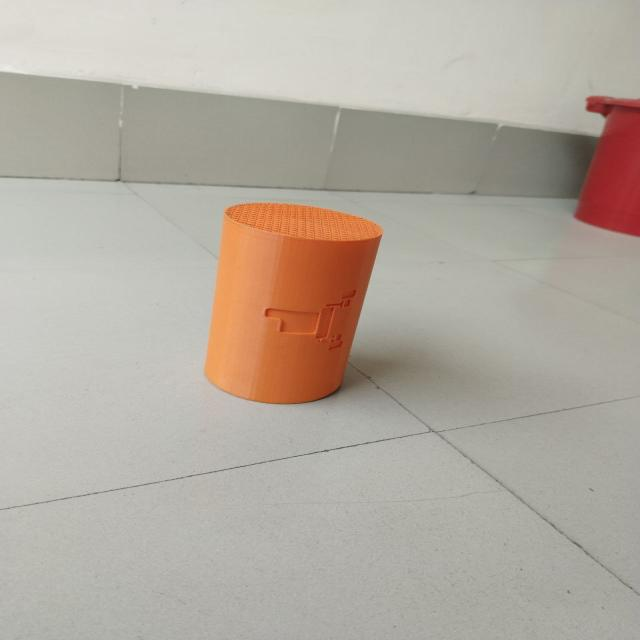Cylinder: (203, 201, 383, 404)
